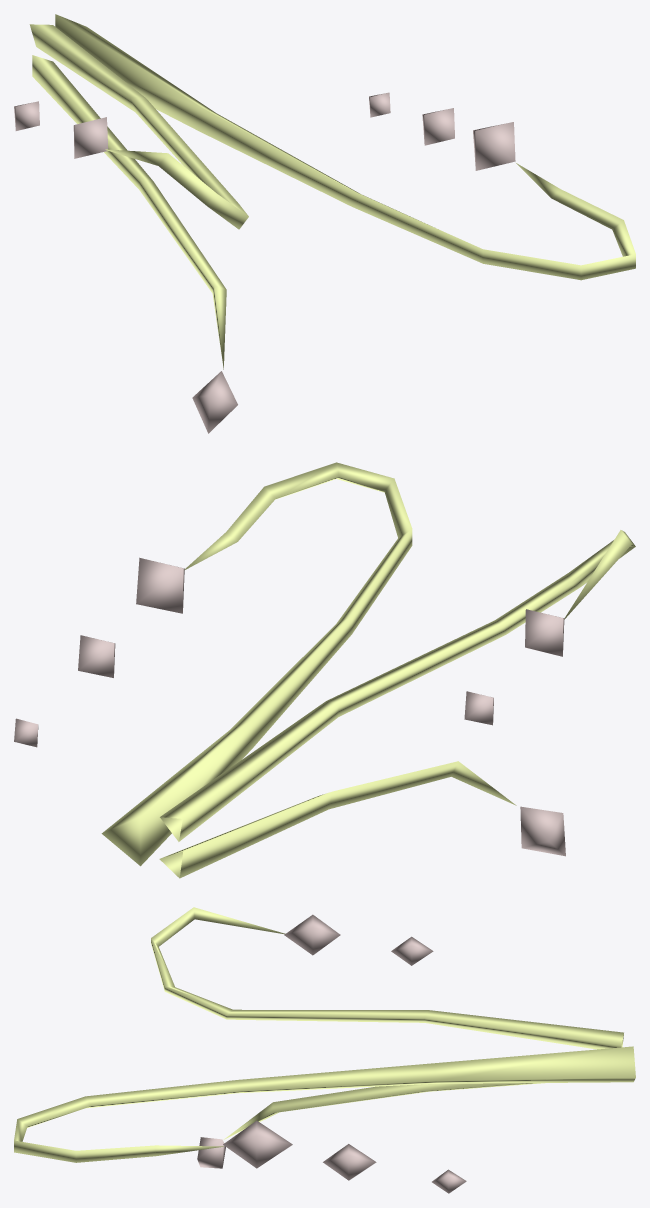
3 renders of one model, top to bottom at view 1: azimuth 30°, elevation 25°; view 2: azimuth 150°, elevation 25°; view 3: azimuth 270°, elevation 25°, orthographic. The views are drawn at different scales.
Visible parts, largest first — view 1: Object31; view 2: Object31; view 3: Object31.
Part boxes in pixels (x1=…): Object31: x1=14, y1=14, x2=635, y2=433; Object31: x1=14, y1=462, x2=635, y2=878; Object31: x1=14, y1=907, x2=635, y2=1193.
Size of the model in its own units: 5693 by 3948 by 9179.
